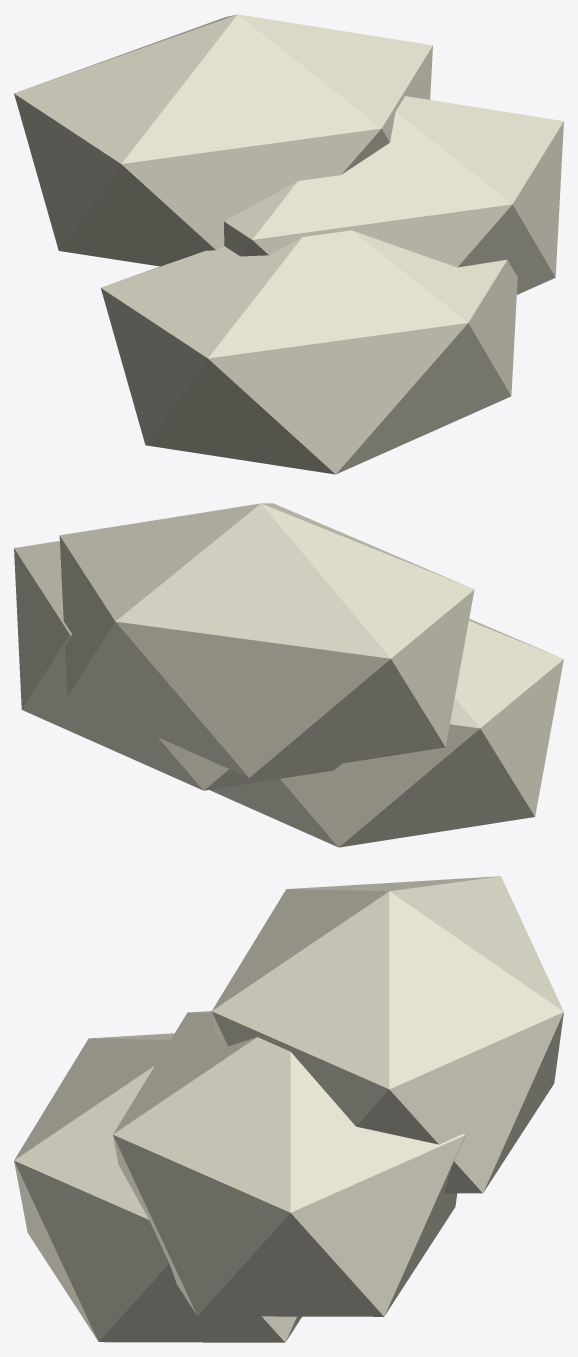
File: item_095_lime_m.glb
The picture shows the model from 3 angles, top to bottom: view 1: azimuth 30°, elevation 25°; view 2: azimuth 150°, elevation 25°; view 3: azimuth 270°, elevation 25°; orthographic projection. The views are drawn at different scales.
Visible parts, largest first — view 1: item_095_lime_m; view 2: item_095_lime_m; view 3: item_095_lime_m.
Boxes of the visible parts, bbox=[...] form: item_095_lime_m: bbox=[14, 14, 563, 474]; item_095_lime_m: bbox=[14, 503, 563, 847]; item_095_lime_m: bbox=[14, 876, 563, 1342].
Bounding box in the file's own units: 0.3692 × 0.2955 × 0.3339.
